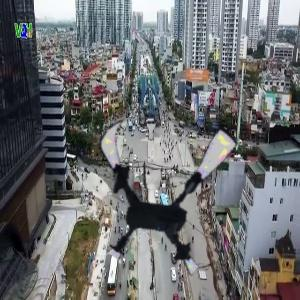drone: (82, 106, 251, 275)
